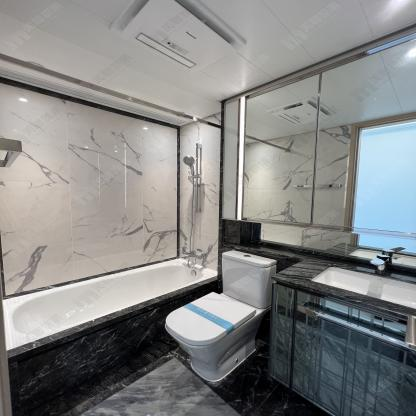Bathtub: (4, 254, 222, 416)
Toilet: (165, 249, 278, 383)
Toilet Sink: (305, 263, 416, 313)
